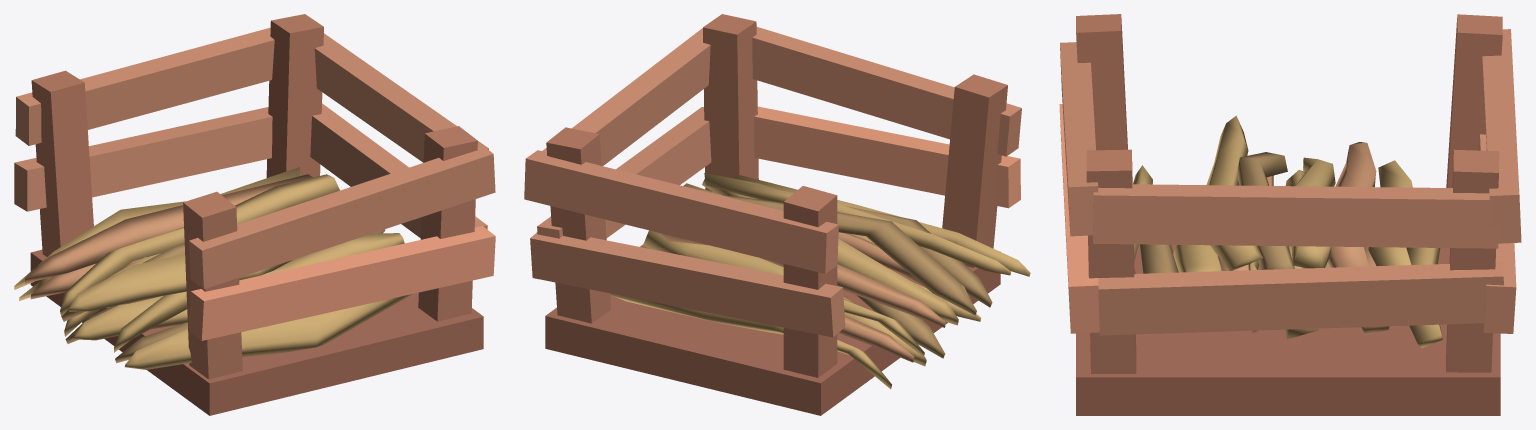
Rendered from chickenCoop.fbx.
The picture shows the model from 3 angles, left to right: view 1: azimuth 30°, elevation 25°; view 2: azimuth 150°, elevation 25°; view 3: azimuth 270°, elevation 25°; orthographic projection. The views are drawn at different scales.
Visible parts, largest first — view 1: Cube.023; view 2: Cube.023; view 3: Cube.023.
Boxes of the visible parts, x1,y1,x2,y2 form: Cube.023: [14, 14, 495, 415]; Cube.023: [524, 14, 1030, 415]; Cube.023: [1059, 14, 1521, 415].
Size of the model in its own units: 93.3 by 50.87 by 86.54.
